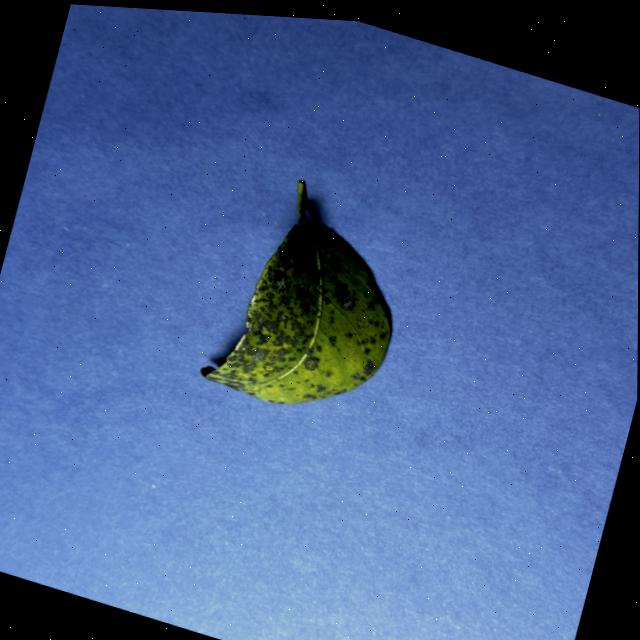sooty_mold: (201, 182, 390, 403)
